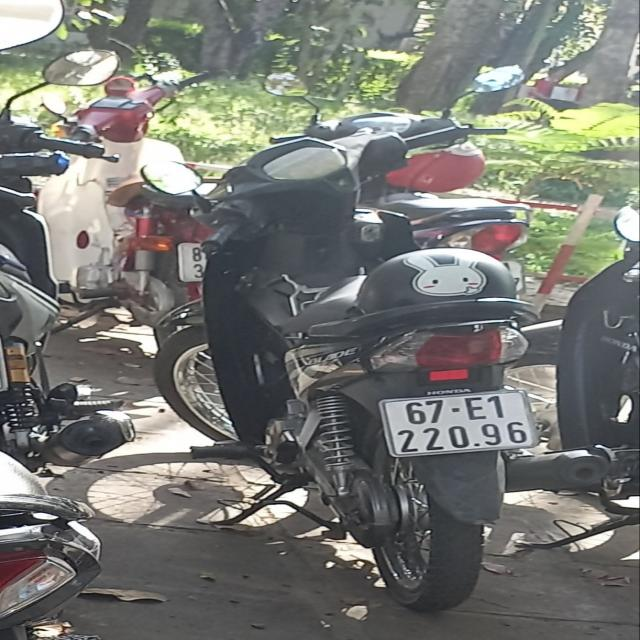1: (487, 395, 506, 421)
2: (422, 427, 446, 451), (396, 429, 419, 453)
6: (405, 401, 429, 425)
7: (425, 398, 447, 424)
E: (462, 396, 488, 421)
